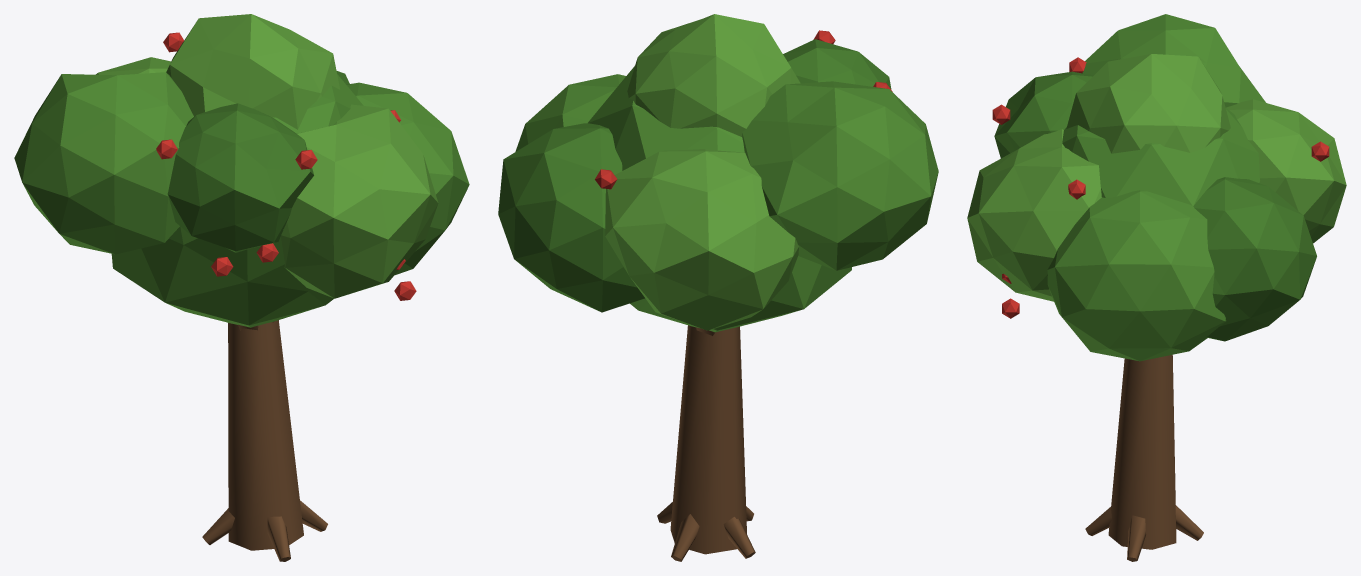
File: tree_apple_2.glb
The picture shows the model from 3 angles, left to right: view 1: azimuth 30°, elevation 25°; view 2: azimuth 150°, elevation 25°; view 3: azimuth 270°, elevation 25°; orthographic projection. The views are drawn at different scales.
Visible parts, largest first — view 1: crown, trunk; view 2: crown, trunk; view 3: crown, trunk.
Boxes of the visible parts, x1=… form: crown: x1=14, y1=14, x2=469, y2=327; trunk: x1=202, y1=320, x2=327, y2=561; crown: x1=498, y1=14, x2=938, y2=332; trunk: x1=657, y1=325, x2=755, y2=561; crown: x1=967, y1=14, x2=1346, y2=361; trunk: x1=1085, y1=355, x2=1203, y2=561.
Bounding box in the file's own units: 1.85 × 2.26 × 1.62.
